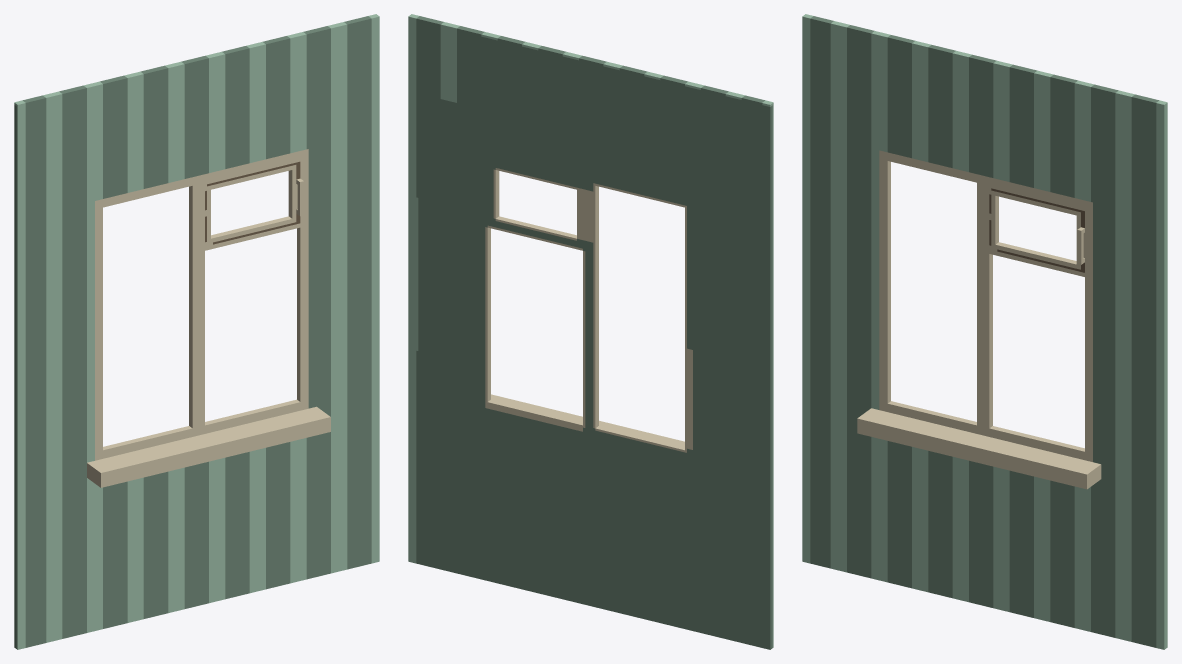
The model's file is window_kids.obj.
The picture shows the model from 3 angles, left to right: view 1: azimuth 30°, elevation 25°; view 2: azimuth 150°, elevation 25°; view 3: azimuth 330°, elevation 25°; orthographic projection.
Size of the model in its own units: 17.8 by 25.6 by 1.5.
1 material, 1 textured.
